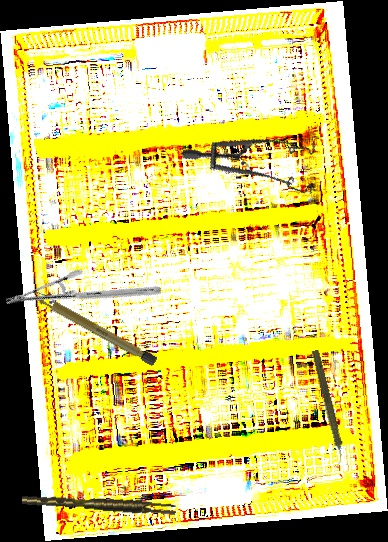Handpiece: (306, 349, 350, 467)
Needle Holder: (3, 224, 164, 367)
Scalpel Handle: (32, 289, 159, 368)
Speculum: (179, 104, 333, 233)
Tissue Forceps: (21, 487, 177, 521)
